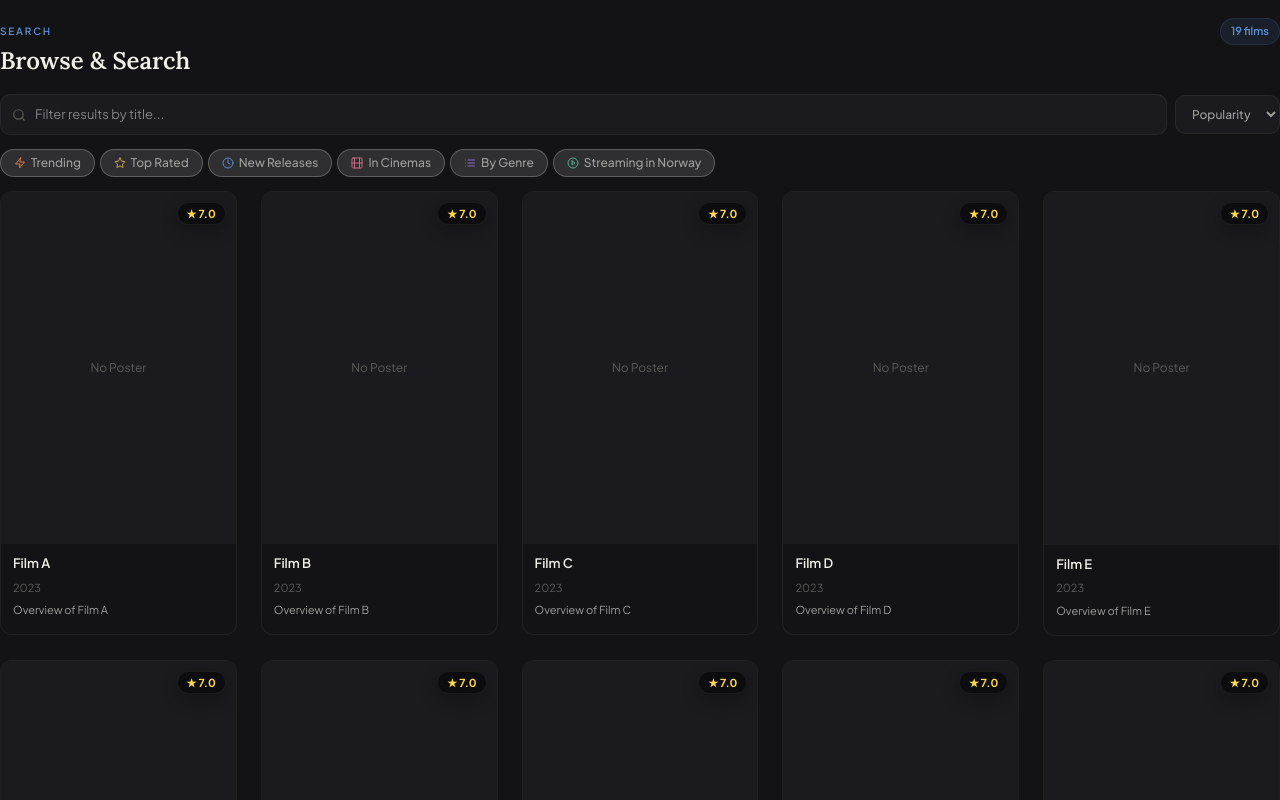
Test: SearchPanel › shows empty state message when no films match the query
Type "xyzxyzxyz" into the field with placeholder "Filter results by title..." at (584,115), box [0,94,1167,135]
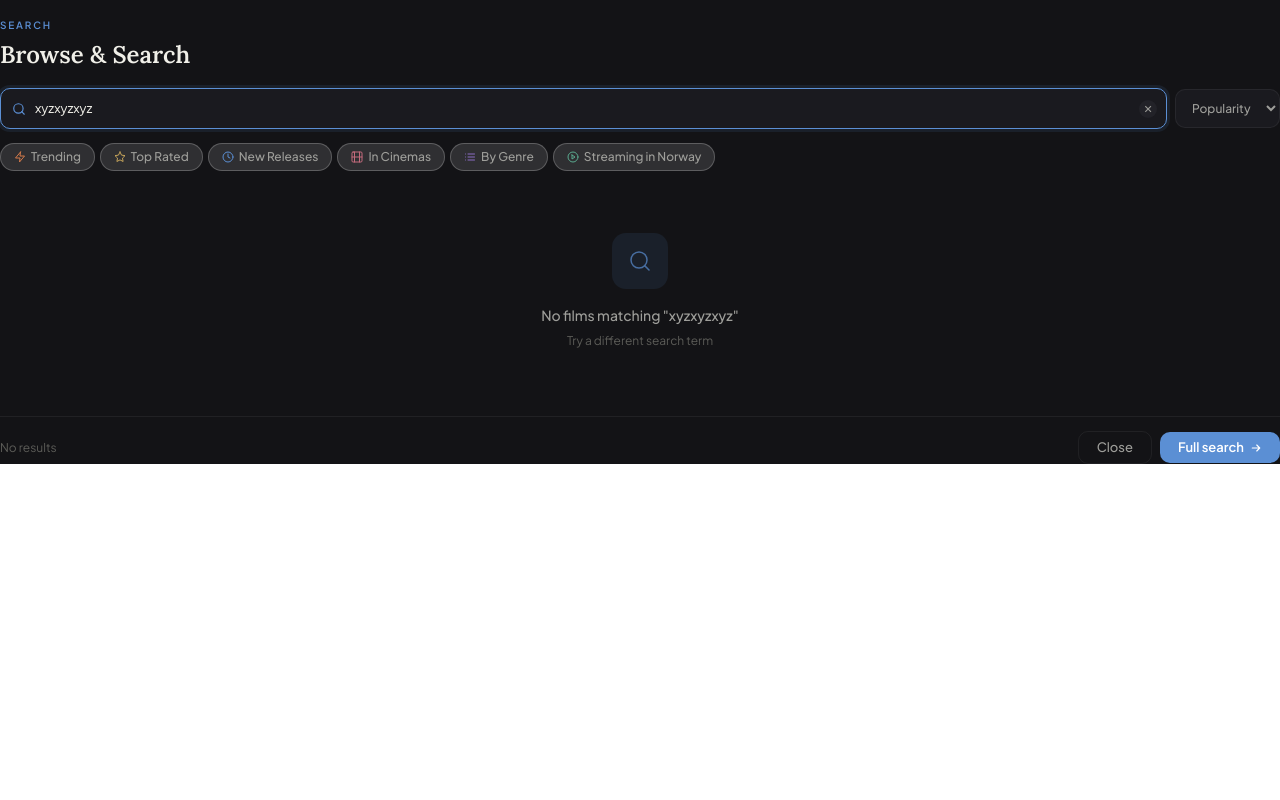
Now the text "No films matching \"xyzxyzxyz\"" is shown, box [541,306,739,324]
